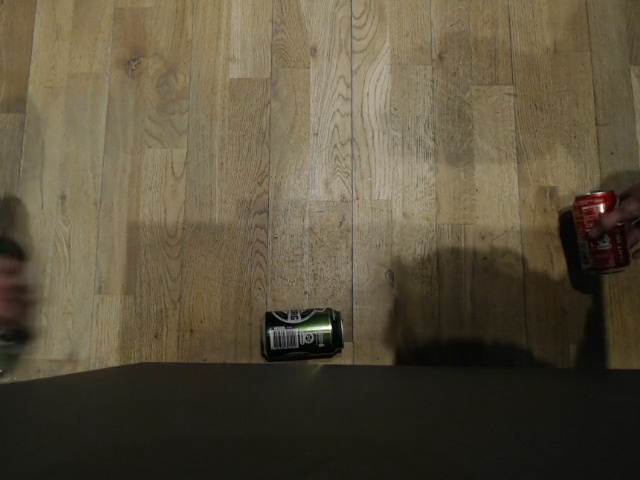beer: (260, 305, 343, 362)
cola: (571, 188, 624, 274)
